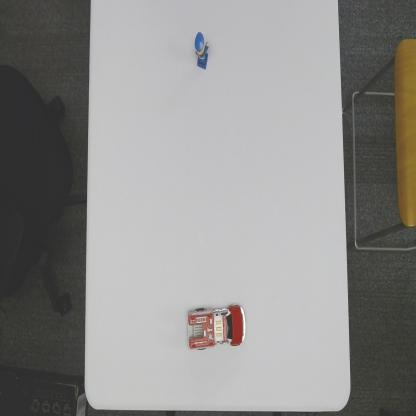Firetruck: (185, 302, 247, 353)
